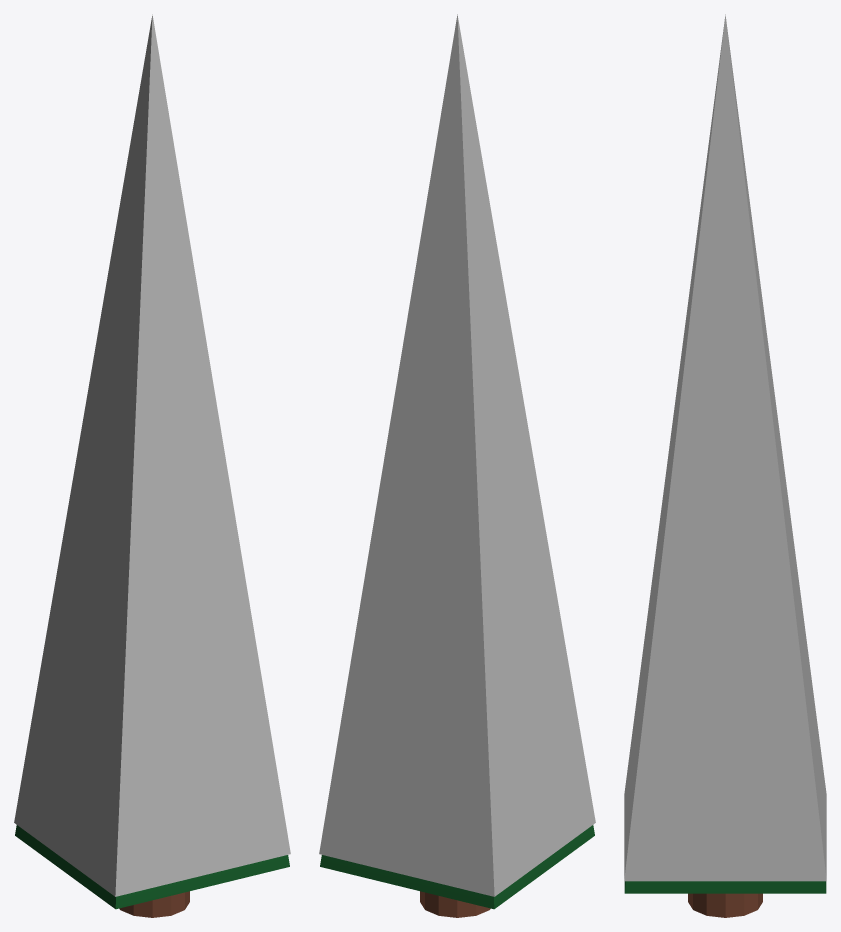
The model's file is Tree_19_winter_gradient_green_vc.fbx.
3 renders of one model, left to right at view 1: azimuth 30°, elevation 25°; view 2: azimuth 150°, elevation 25°; view 3: azimuth 270°, elevation 25°, orthographic.
Visible parts, largest first — view 1: Tree_19_winter_gradient_green_vc; view 2: Tree_19_winter_gradient_green_vc; view 3: Tree_19_winter_gradient_green_vc.
Part boxes in pixels (box(x1,y1,x2,y2)): Tree_19_winter_gradient_green_vc: box(14, 14, 290, 917); Tree_19_winter_gradient_green_vc: box(319, 14, 595, 917); Tree_19_winter_gradient_green_vc: box(624, 14, 826, 917).
Bounding box in the file's own units: 60.03 × 290 × 60.03.
